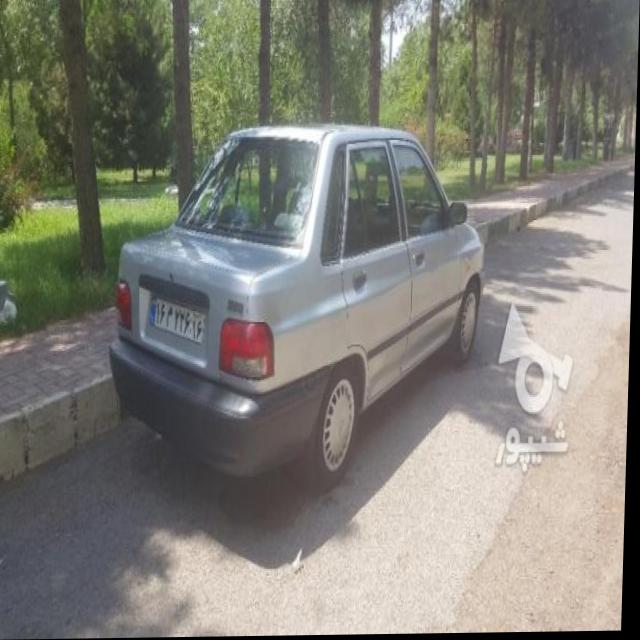licence: (148, 289, 212, 343)
